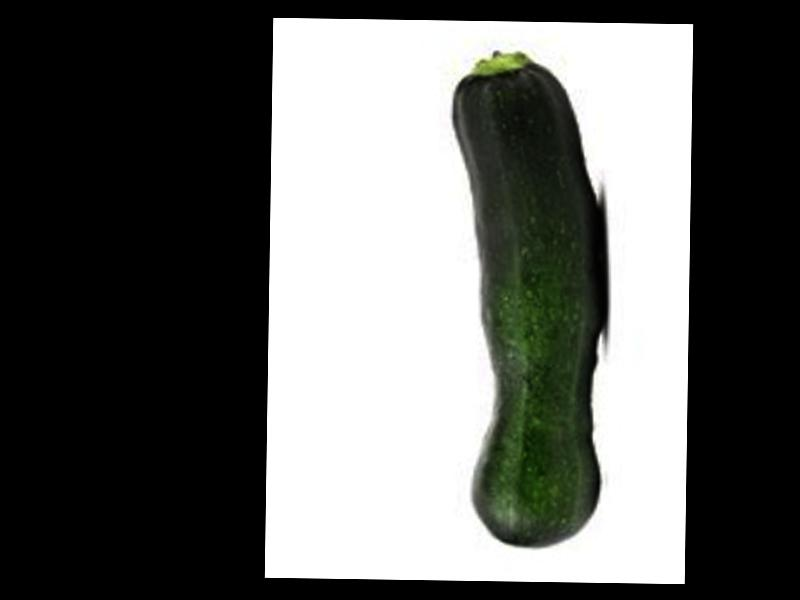Cucumber: (445, 49, 608, 548)
